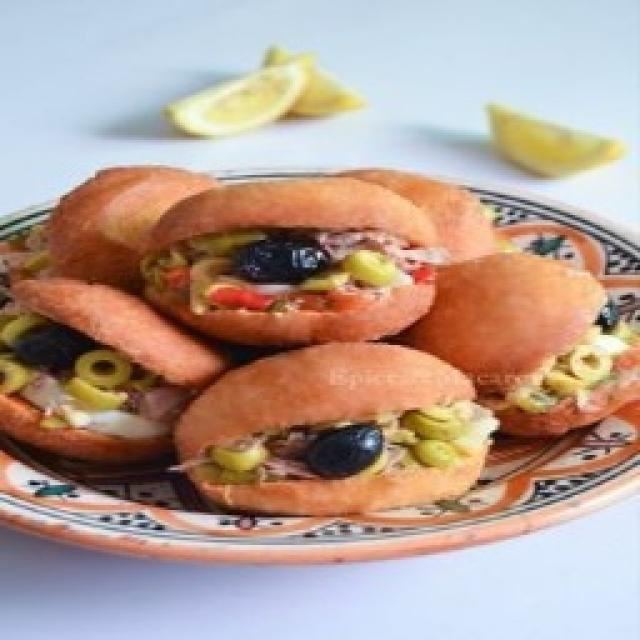Frecasse: (0, 166, 640, 516)
